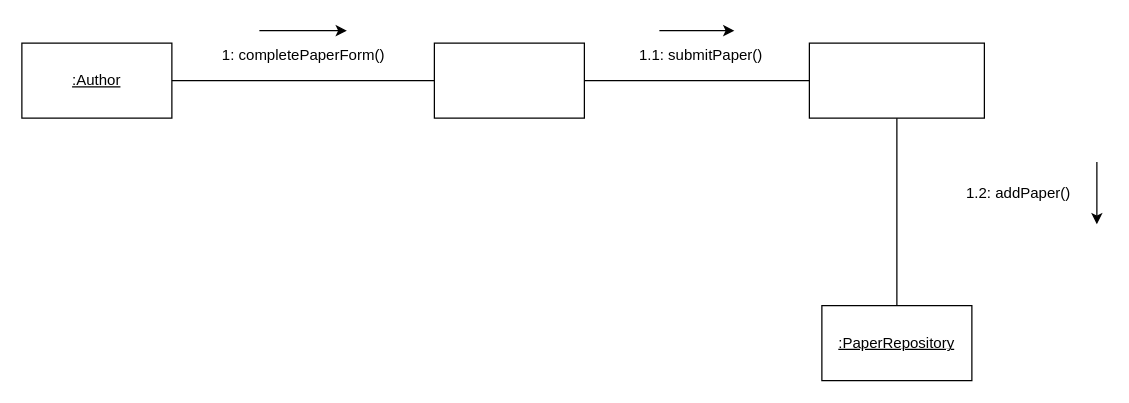
The diagram is 1129 pixels wide and 403 high, and some of its shapes have lost their labels. The box of each missing label's shape, as (x1, y1, x2, y2) in pixels:
:SubmissionController: (808, 42, 984, 118)
:UI: (433, 42, 584, 118)
